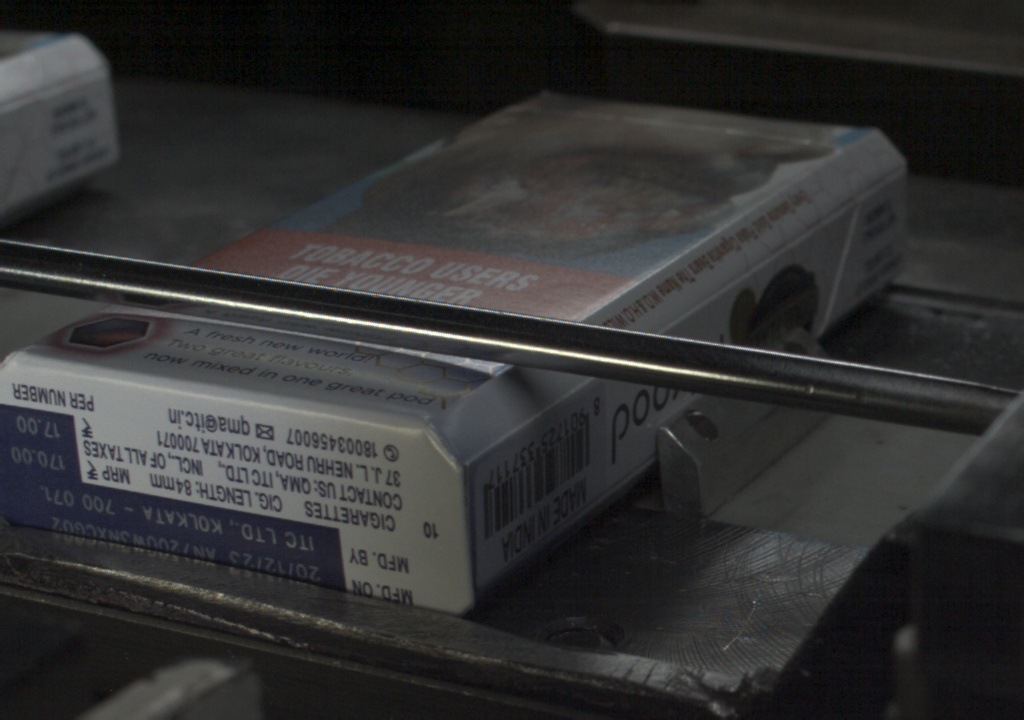g_bottom: (1, 365, 455, 618)
g_label: (3, 487, 361, 599)
g_lmiter: (765, 200, 856, 269), (661, 269, 755, 332), (536, 378, 595, 422), (467, 427, 531, 467)
g_miter: (859, 161, 906, 199)
price: (4, 414, 94, 483)
